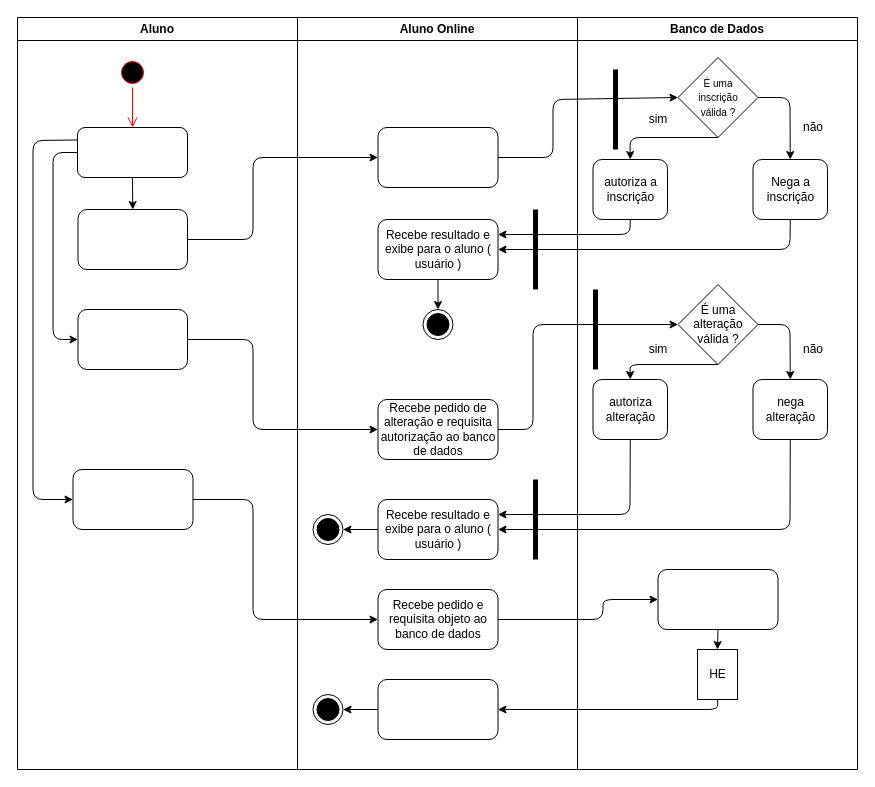
This 875x787 diagram has some shape labels left out. Here are the shapes that lost their labels. From the top down, the centre of each, then its label:
At (x=132, y=152): "Acessa o Aluno Online".
At (x=437, y=157): "Recebe inscrição e requisita autorização do banco de dados".
At (x=132, y=239): "Se inscreve em disciplinas".
At (x=132, y=339): "Pede alteração na inscrição".
At (x=132, y=499): "Pede histórico escolar".
At (x=717, y=599): "Gera histórico escolar ( HE )".
At (x=437, y=709): "Exibe histórico escolar ( HE )".
